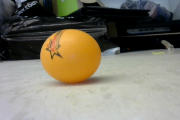PingPongBall: (40, 29, 101, 83)
